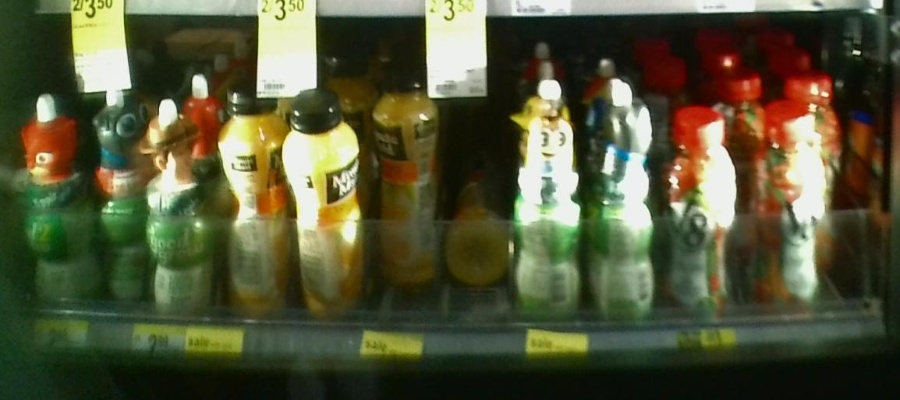bottle: (143, 88, 218, 318), (586, 79, 657, 321), (288, 85, 361, 320), (512, 78, 583, 318), (661, 105, 738, 317), (19, 85, 88, 308), (220, 79, 284, 316), (755, 99, 825, 311), (373, 68, 439, 282), (89, 85, 143, 316), (444, 194, 504, 288)
